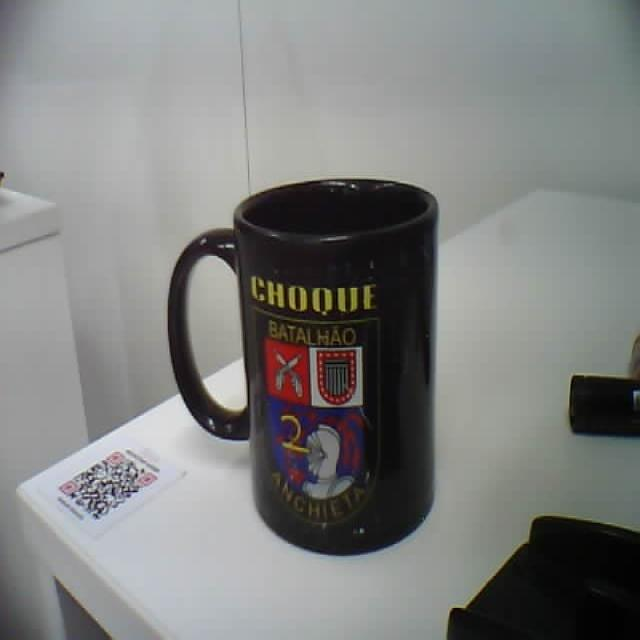caneca: (169, 180, 437, 552)
